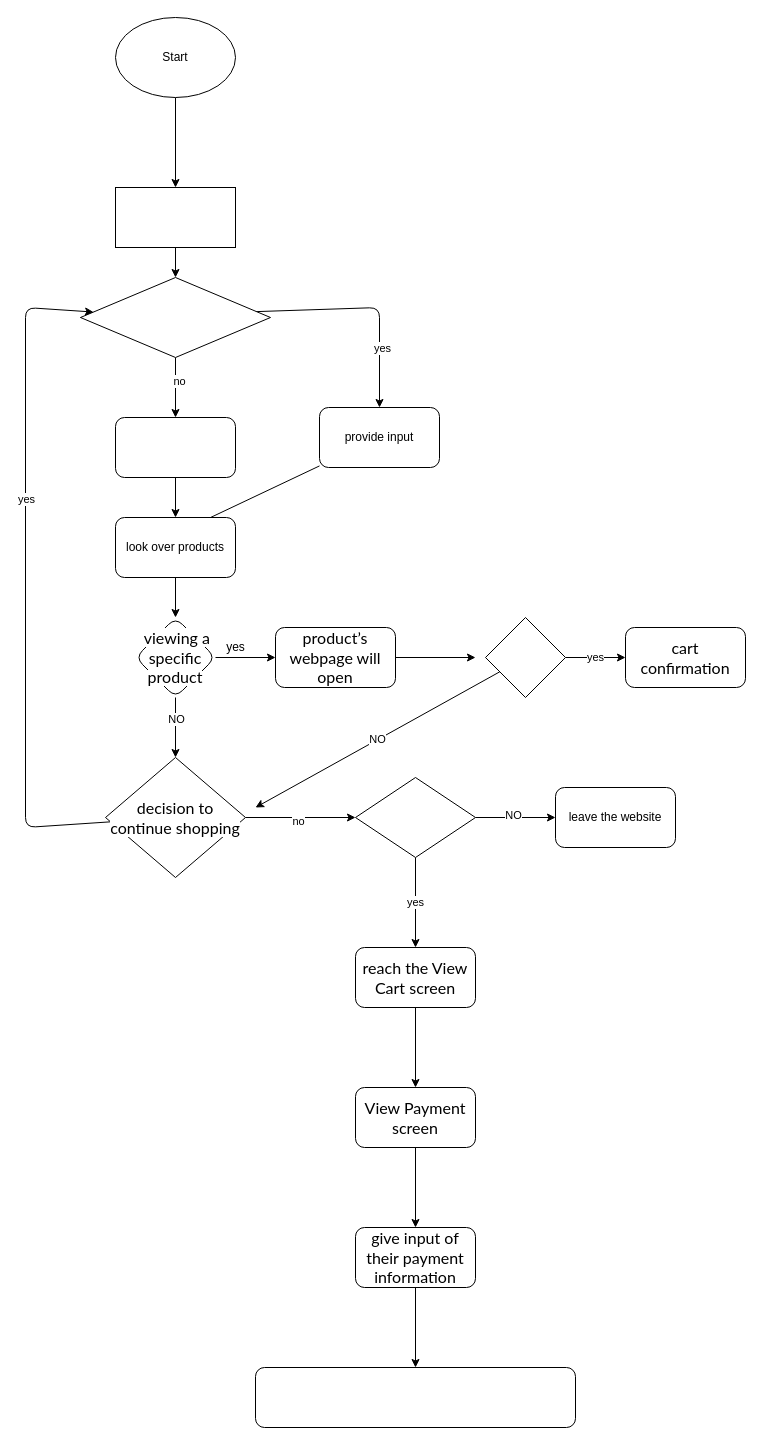
The diagram is 763 pixels wide and 1445 high, and some of its shapes have lost their labels. Here are the shapes that lost their labels. From the top down, the centre of each, then its label:
At pixel 175 217: "entering the website".
At pixel 175 317: "searching for a new product or not".
At pixel 175 447: "exploring the products on the home page".
At pixel 525 657: "added to cart".
At pixel 415 817: "wether check out".
At pixel 415 1397: "see an order confirmation screen and at the same time will receive an email".
